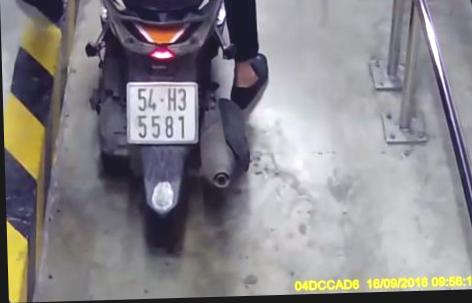License_Plate: (117, 79, 205, 154)
